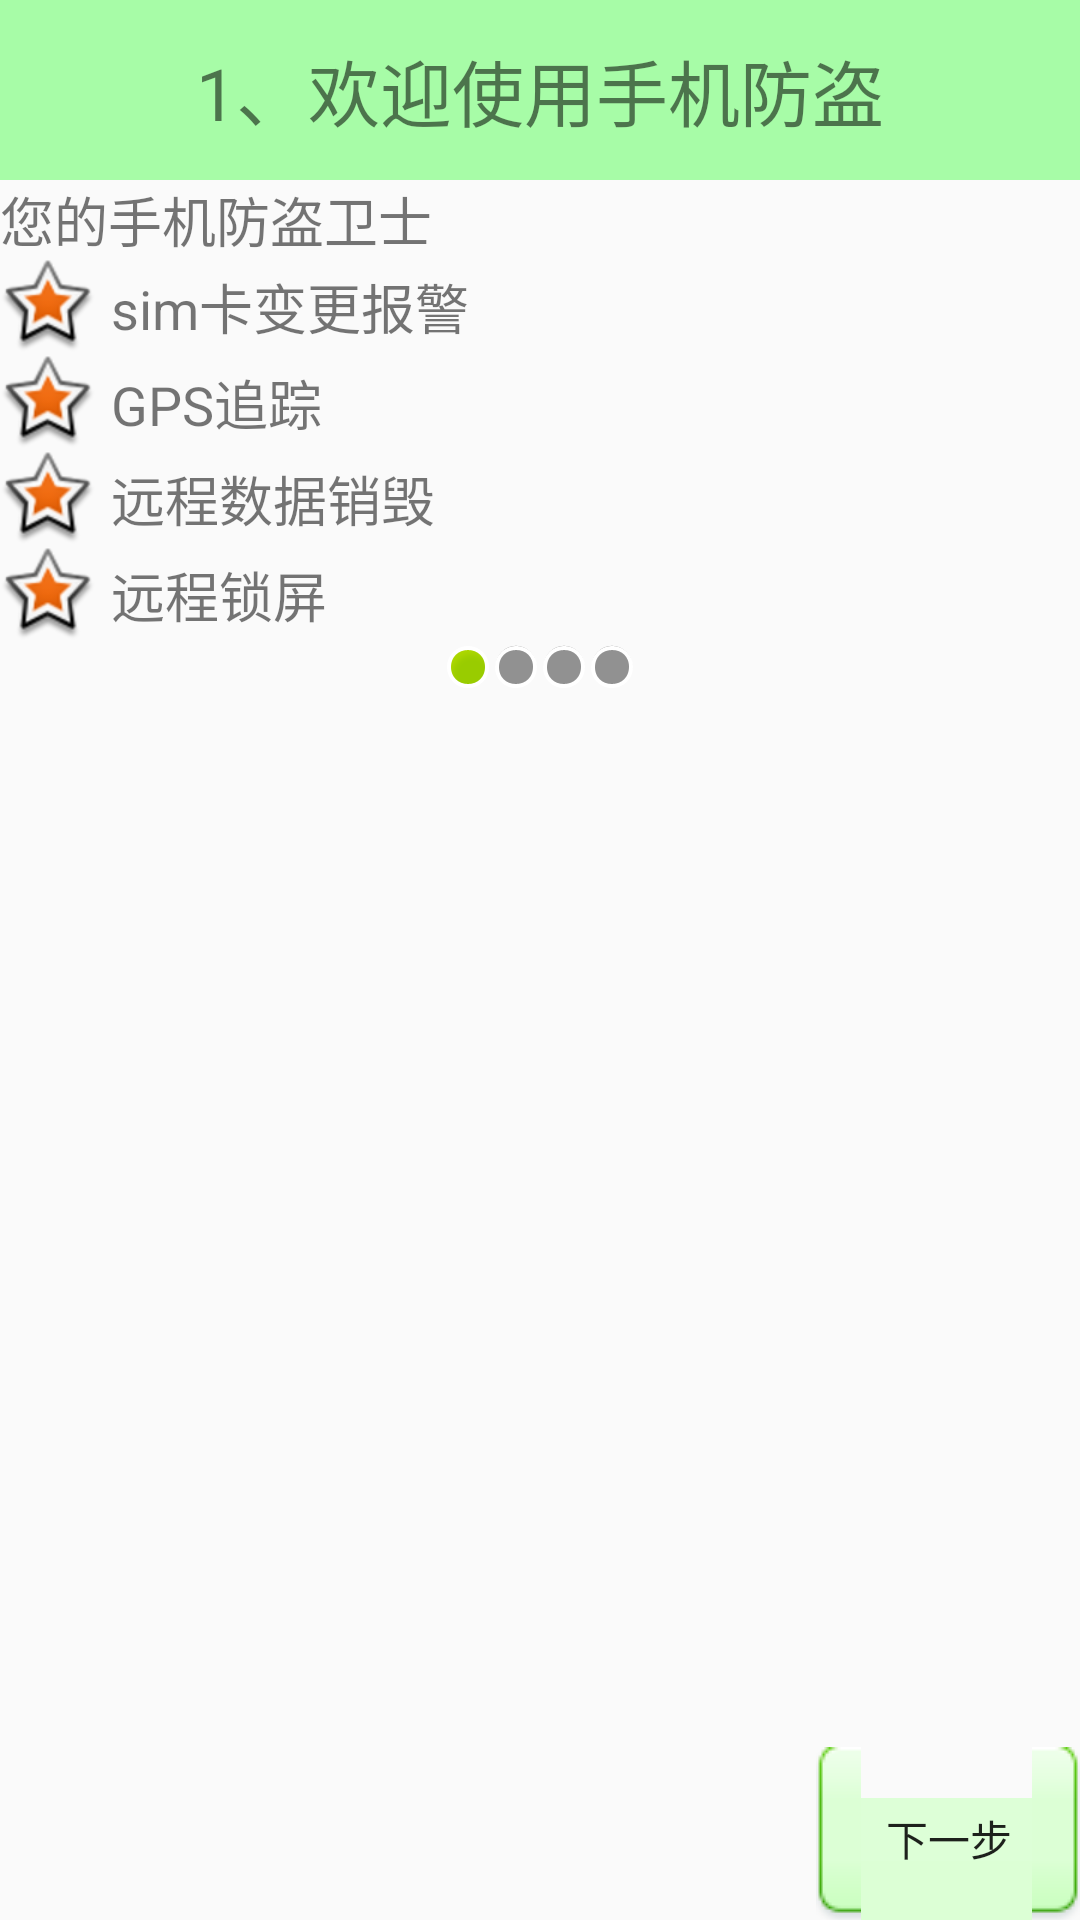

Icon click points for this 1080 × 1920 phone screenshot, format (x,y):
star on: (47,303), (47,399), (47,495), (47,591)
